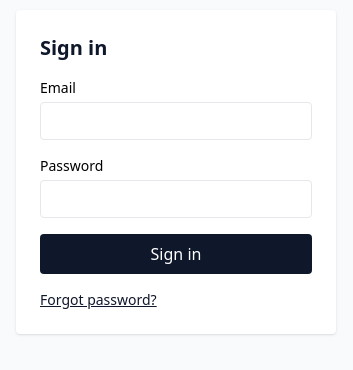
SignInPage › keeps the sign-in form on screen after a refused sign-in
This screenshot has width=353, height=370.
Type "ada@example.com" into the field labelled "Email" at [176, 121], box [40,102,312,140]
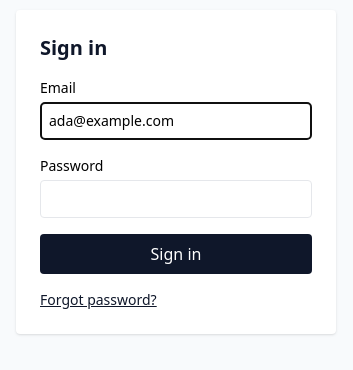
Type "wrong-password" into the password field labelled "Password" at [176, 199], box [40,180,312,218]
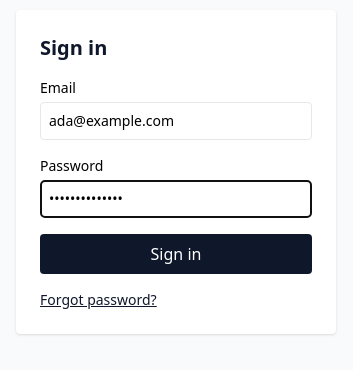
Click the button "Sign in" at [176, 254], box [40,234,312,274]
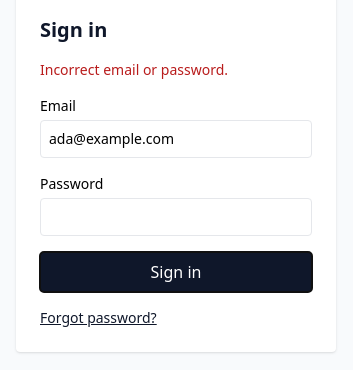
Expected: the heading "Sign in" is shown, [40,16,107,43]
Expected: the message reads "Incorrect email or password.", [40,60,228,79]
